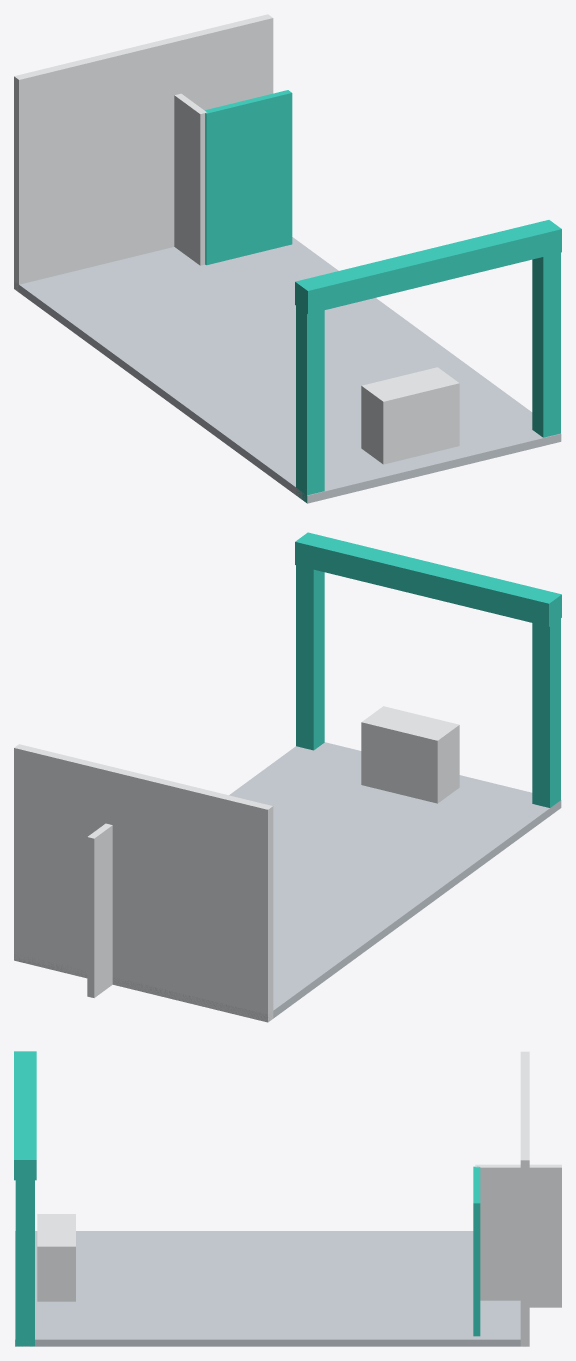
3 views of the same model, one above another, from view 1: azimuth 30°, elevation 25°; view 2: azimuth 150°, elevation 25°; view 3: azimuth 270°, elevation 25° (orthographic). The views are drawn at different scales.
Parts seen in each view (by area): view 1: Exhibition Booth Concept; view 2: Exhibition Booth Concept; view 3: Exhibition Booth Concept.
Boxes of the visible parts, x1=… form: Exhibition Booth Concept: x1=14, y1=14, x2=561, y2=503; Exhibition Booth Concept: x1=14, y1=532, x2=561, y2=1022; Exhibition Booth Concept: x1=14, y1=1051, x2=561, y2=1346.
Bounding box in the file's own units: 4 × 3.2 × 8.52.
